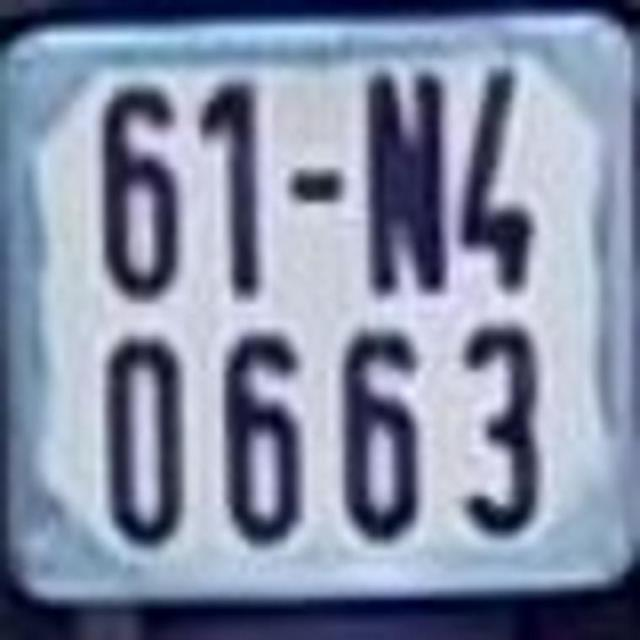0: (100, 336, 193, 545)
1: (195, 87, 262, 302)
3: (463, 316, 547, 535)
4: (469, 67, 532, 290)
6: (219, 322, 304, 545), (340, 328, 423, 544), (101, 90, 184, 298)
N: (366, 72, 453, 291)
